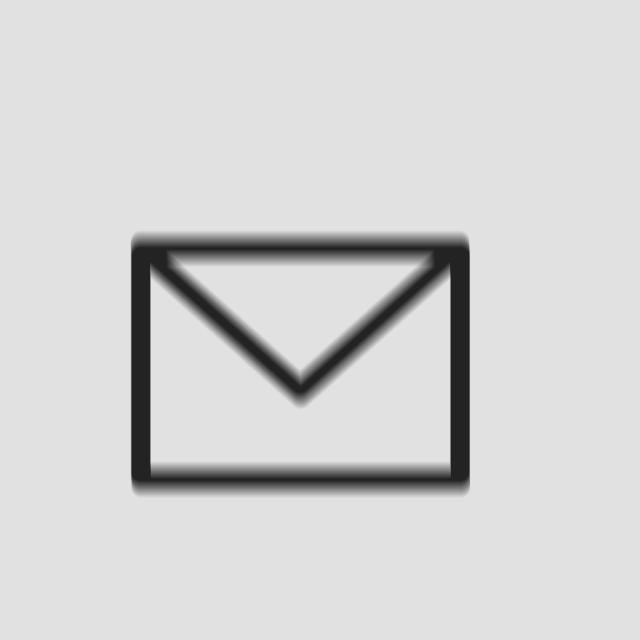letter: (128, 227, 473, 505)
